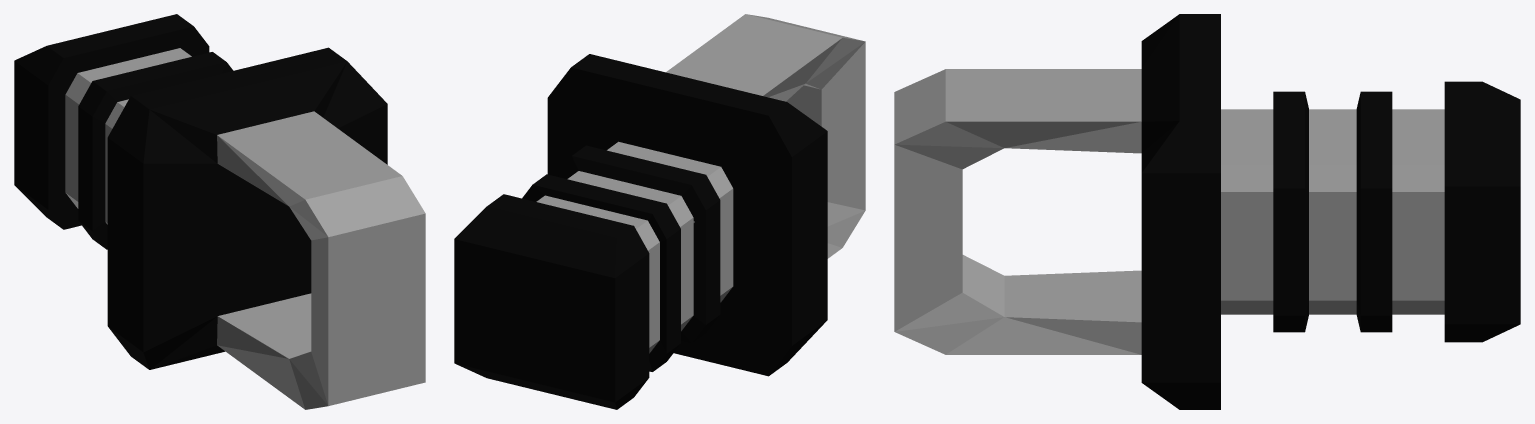
Rendered from agarre.fbx.
3 views of the same model, side by side, from view 1: azimuth 30°, elevation 25°; view 2: azimuth 150°, elevation 25°; view 3: azimuth 270°, elevation 25° (orthographic). The views are drawn at different scales.
Visible parts, largest first — view 1: agarre; view 2: agarre; view 3: agarre.
Part boxes in pixels (x1,y1,x2,y2): agarre: [14, 14, 425, 409]; agarre: [454, 14, 865, 409]; agarre: [894, 14, 1520, 409].
Bounding box in the file's own units: 23.95 × 24.42 × 47.95.
1 material, 1 textured.
